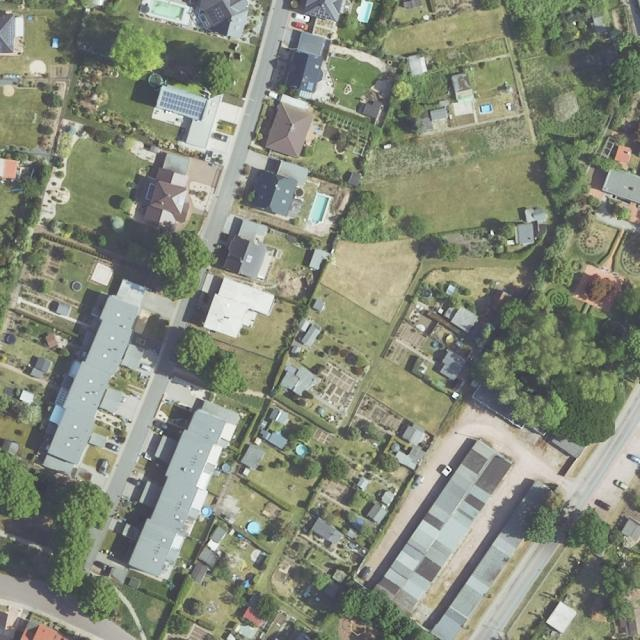PV: (160, 91, 205, 119), (310, 5, 332, 20)
ST: (208, 9, 219, 25), (244, 253, 254, 263), (305, 82, 314, 91)
